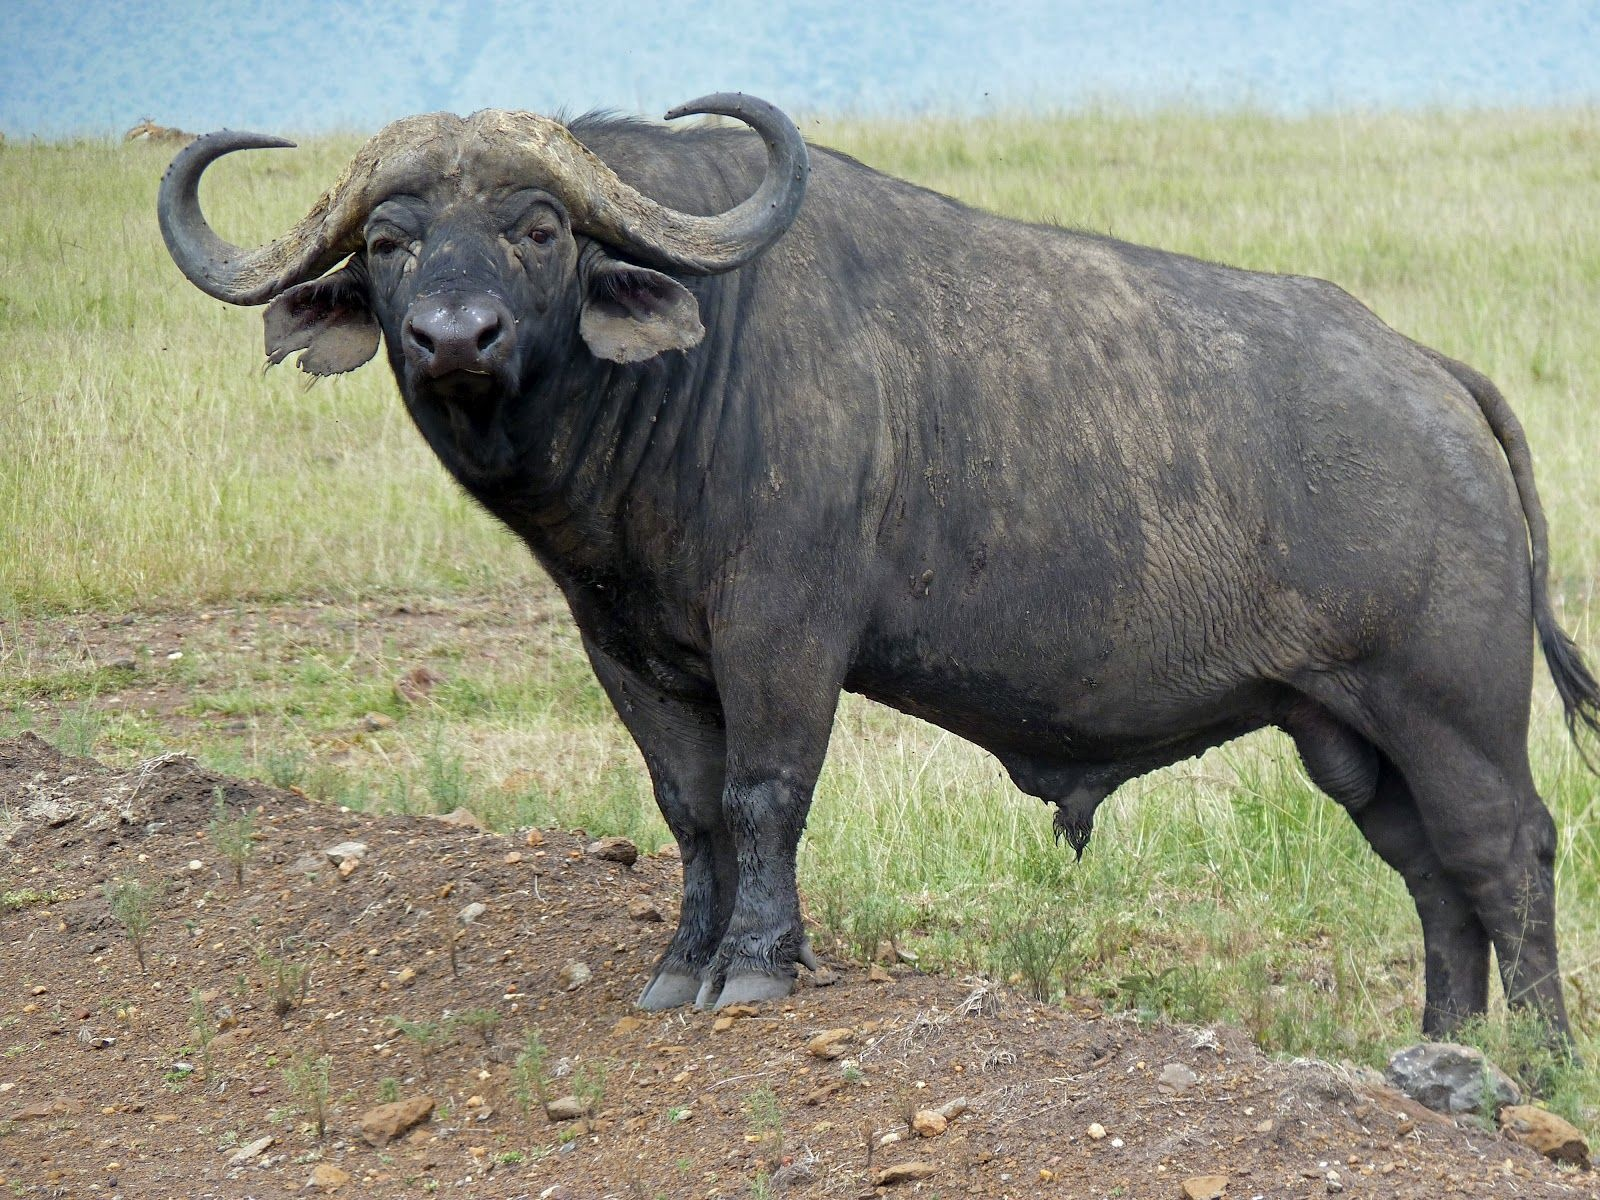buffalo: (152, 87, 1574, 1083)
